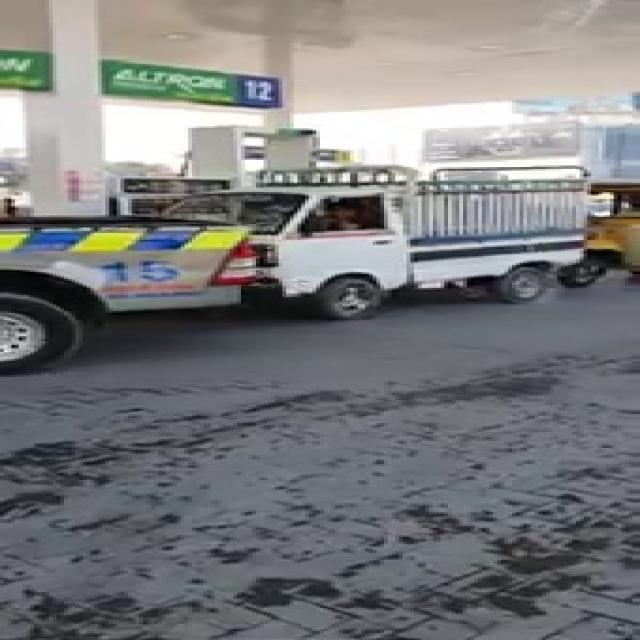police: (0, 183, 316, 388)
